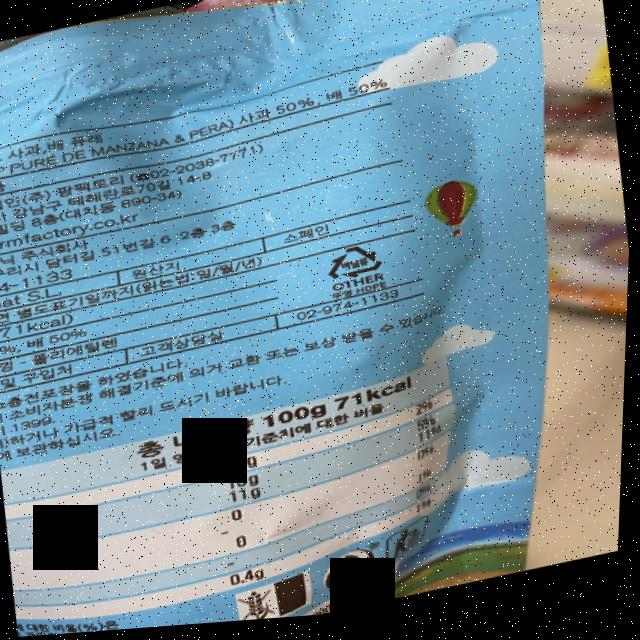Vinyl: (324, 245, 389, 291)
